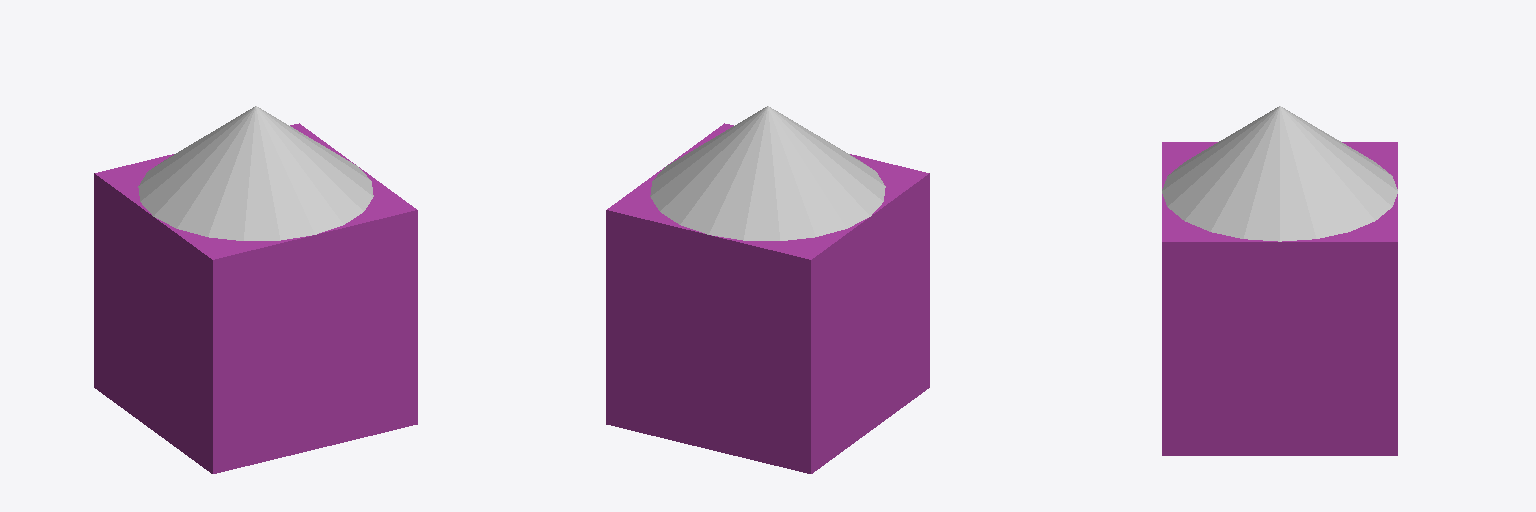
Rendered from two_mtl.obj.
3 renders of one model, left to right at view 1: azimuth 30°, elevation 25°; view 2: azimuth 150°, elevation 25°; view 3: azimuth 270°, elevation 25°, orthographic.
Size of the model in its own units: 0.5 by 0.7 by 0.5.